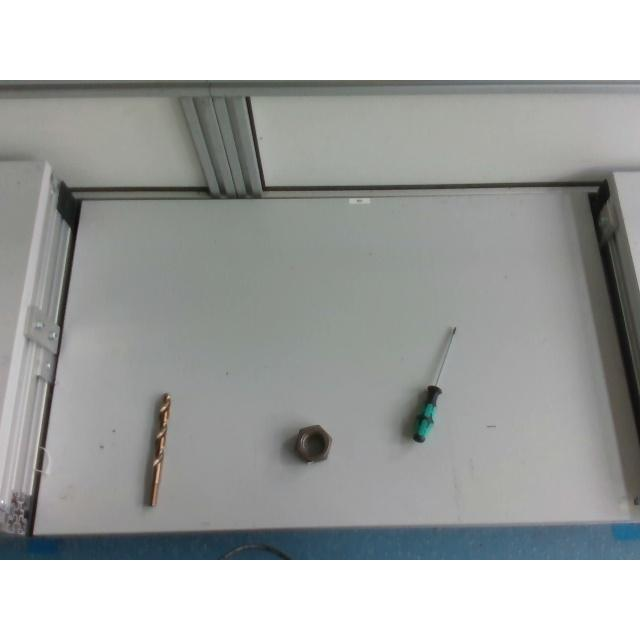Drill: (145, 392, 171, 508)
M30: (293, 426, 333, 466)
Screwdriver: (412, 328, 456, 442)
